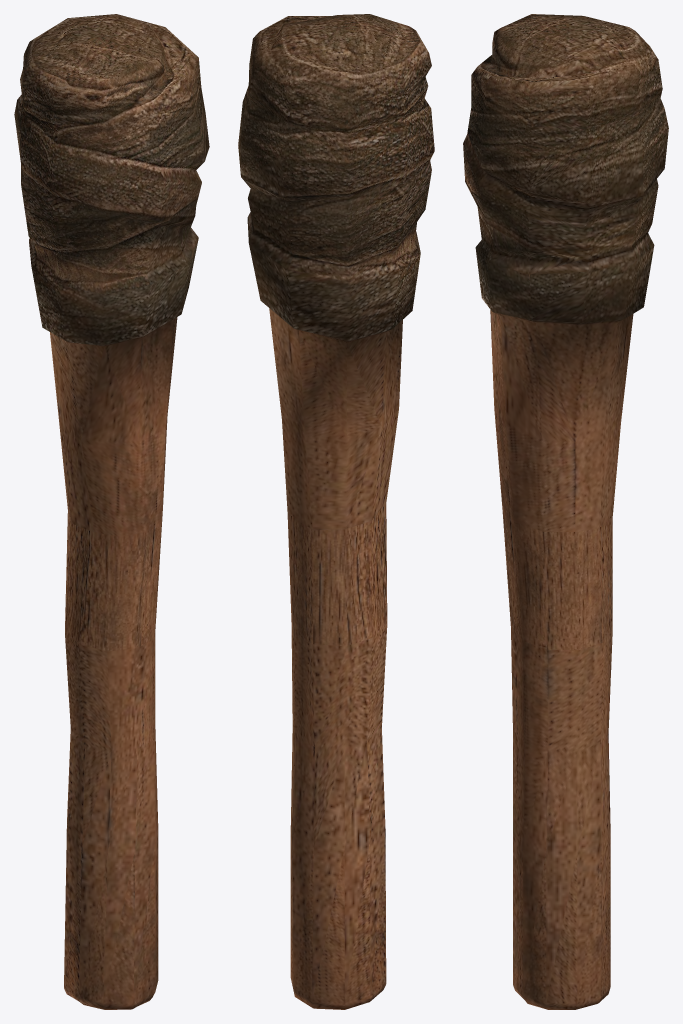
Rendered from held-winter-torch-01.glb.
The picture shows the model from 3 angles, left to right: view 1: azimuth 30°, elevation 25°; view 2: azimuth 150°, elevation 25°; view 3: azimuth 270°, elevation 25°; orthographic projection.
Parts seen in each view (by area): view 1: tripo_node_f5b75a44-7fd1-4deb-8987-d00b03df71d1; view 2: tripo_node_f5b75a44-7fd1-4deb-8987-d00b03df71d1; view 3: tripo_node_f5b75a44-7fd1-4deb-8987-d00b03df71d1.
Boxes of the visible parts, <box> form: tripo_node_f5b75a44-7fd1-4deb-8987-d00b03df71d1: <box>14,14,209,1009</box>; tripo_node_f5b75a44-7fd1-4deb-8987-d00b03df71d1: <box>238,14,434,1009</box>; tripo_node_f5b75a44-7fd1-4deb-8987-d00b03df71d1: <box>463,14,668,1009</box>.
Size of the model in its own units: 0.1033 by 0.58 by 0.1124.
Materials: 1 (1 with a texture image).
